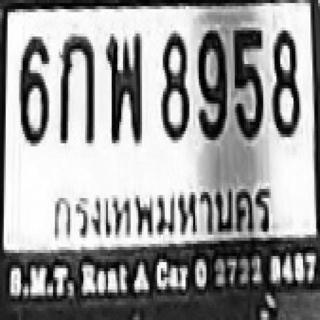A01: (59, 34, 93, 143)
A30: (104, 30, 140, 140)
N05: (233, 27, 261, 137)
N06: (17, 34, 47, 143)
N08: (159, 30, 188, 137), (271, 27, 299, 134)
N09: (197, 27, 225, 137)
P04: (49, 175, 274, 250)
